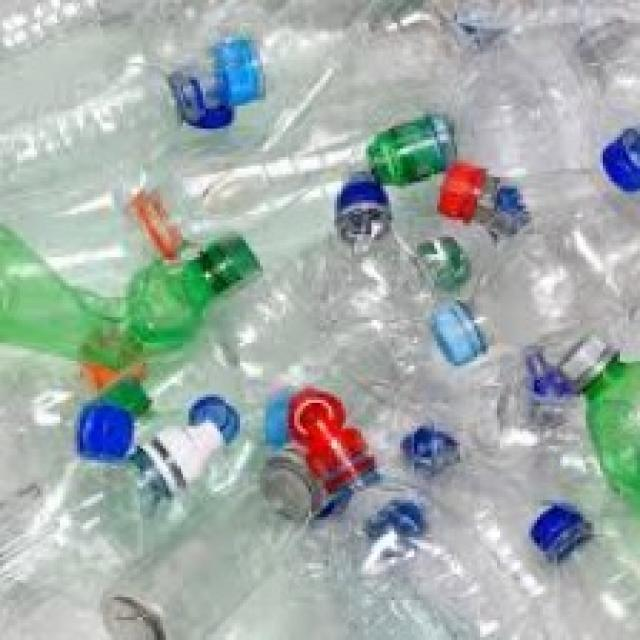plastic_bottle: (120, 433, 331, 640), (81, 239, 279, 356), (536, 502, 640, 640), (158, 33, 286, 145)
